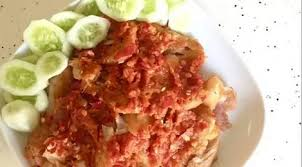ayam_geprek: (31, 19, 239, 161)
